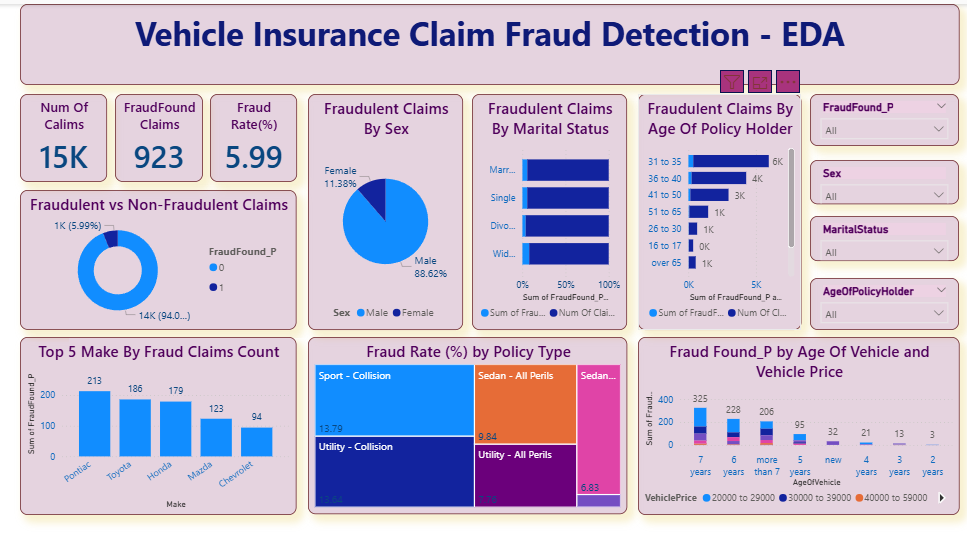

The page's visual inventory and layout, read from the dashboard file:
{"tool":"powerbi","page":{"name":"Page 1","canvas":[1280,720],"ordinal":0},"visuals":[{"type":"textbox","box":[27.3,0,1230,106],"z":1000},{"type":"card","title":"Num Of Calims","fields":{"Values":["vehicle_fraud.Num Of Claims"]},"box":[27.3,118.2,113.6,115.1],"z":2000},{"type":"card","title":"FraudFound Claims","fields":{"Values":["Sum(vehicle_fraud.FraudFound_P)"]},"box":[151.5,118.2,115.1,115.1],"z":3000},{"type":"card","title":"Fraud Rate(%)","fields":{"Values":["vehicle_fraud.Fraud Rate(%)"]},"box":[275.7,118.2,113.6,115.1],"z":4000},{"type":"donutChart","title":"Fraudulent vs Non-Fraudulent Claims","fields":{"Category":["vehicle_fraud.FraudFound_P"],"Y":["vehicle_fraud.Num Of Claims"]},"box":[27.3,243.9,362,183.3],"z":5000},{"type":"textbox","box":[91,437,453,183],"z":6000},{"type":"pieChart","title":"Fraudulent Claims By Sex","fields":{"Category":["vehicle_fraud.Sex"],"Y":["Sum(vehicle_fraud.FraudFound_P)"]},"box":[404.4,118.2,203,309],"z":7000},{"type":"hundredPercentStackedBarChart","title":"Fraudulent Claims By Marital Status","fields":{"Category":["vehicle_fraud.MaritalStatus"],"Y":["Sum(vehicle_fraud.FraudFound_P)","vehicle_fraud.Num Of Claims"]},"box":[619.6,118.2,203,309],"z":8000},{"type":"barChart","title":"Fraudulent Claims By Age Of Policy Holder","fields":{"Y":["Sum(vehicle_fraud.FraudFound_P)","vehicle_fraud.Num Of Claims"],"Category":["vehicle_fraud.AgeOfPolicyHolder"]},"box":[836.2,118.2,213.6,309],"z":9000},{"type":"slicer","fields":{"Values":["vehicle_fraud.FraudFound_P"]},"box":[1061.9,118.2,195.4,68.2],"z":10000},{"type":"slicer","fields":{"Values":["vehicle_fraud.Sex"]},"box":[1061.9,204.5,195.4,57.6],"z":11000},{"type":"slicer","fields":{"Values":["vehicle_fraud.MaritalStatus"]},"box":[1061.9,277.2,195.4,59.1],"z":12000},{"type":"slicer","fields":{"Values":["vehicle_fraud.AgeOfPolicyHolder"]},"box":[1061.9,359,195.4,68.2],"z":13000},{"type":"clusteredColumnChart","title":"Top 5 Make By Fraud Claims Count","fields":{"Category":["vehicle_fraud.Make"],"Y":["Sum(vehicle_fraud.FraudFound_P)"]},"box":[27.3,436.3,362,233.3],"z":14000},{"type":"treemap","title":"  Fraud Rate (%) by Policy Type ","fields":{"Values":["vehicle_fraud.Fraud Rate(%)"],"Group":["vehicle_fraud.PolicyType"]},"box":[404.4,436.3,418.1,231.8],"z":15000},{"type":"ribbonChart","title":" Fraud Found_P by Age Of Vehicle and Vehicle Price","fields":{"Category":["vehicle_fraud.AgeOfVehicle"],"Y":["Sum(vehicle_fraud.FraudFound_P)"],"Series":["vehicle_fraud.VehiclePrice"]},"box":[836.2,436.3,421.1,233.3],"z":16000}]}

Visuals, with their boxes in screenshot pixels (x1, y1, x2, y2), scaled from the page's 1280x720 canvas onto the 967x550 screenshot:
textbox: [21, 0, 950, 81]
"Num Of Calims" card: [21, 90, 106, 178]
"FraudFound Claims" card: [114, 90, 201, 178]
"Fraud Rate(%)" card: [208, 90, 294, 178]
"Fraudulent vs Non-Fraudulent Claims" donutChart: [21, 186, 294, 326]
textbox: [69, 334, 411, 474]
"Fraudulent Claims By Sex" pieChart: [306, 90, 459, 326]
"Fraudulent Claims By Marital Status" hundredPercentStackedBarChart: [468, 90, 621, 326]
"Fraudulent Claims By Age Of Policy Holder" barChart: [632, 90, 793, 326]
slicer - vehicle_fraud.FraudFound_P: [802, 90, 950, 142]
slicer - vehicle_fraud.Sex: [802, 156, 950, 200]
slicer - vehicle_fraud.MaritalStatus: [802, 212, 950, 257]
slicer - vehicle_fraud.AgeOfPolicyHolder: [802, 274, 950, 326]
"Top 5 Make By Fraud Claims Count" clusteredColumnChart: [21, 333, 294, 512]
"  Fraud Rate (%) by Policy Type " treemap: [306, 333, 621, 510]
" Fraud Found_P by Age Of Vehicle and Vehicle Price" ribbonChart: [632, 333, 950, 512]
